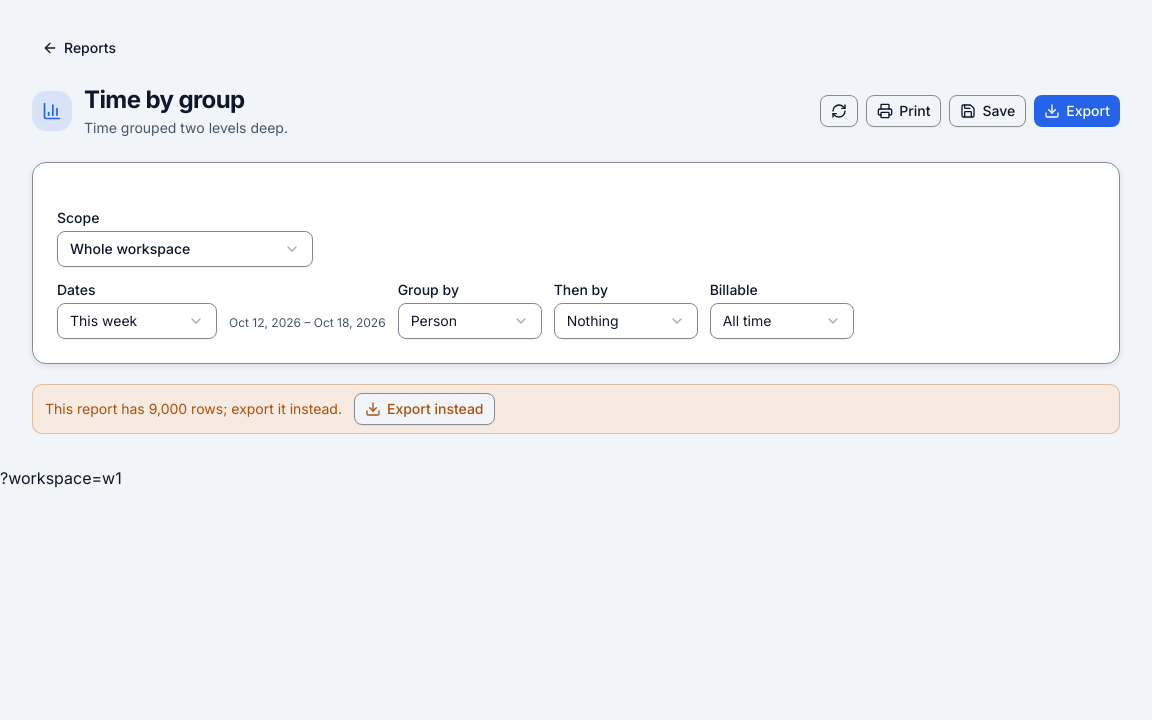
Test: <ReportPage> › points a report too large for the screen at an export
Expected: the text "export it instead" is shown, [45,400,342,417]
Step 1. Click the button "Export instead" → coordinates (424, 409), box [354,393,494,425]
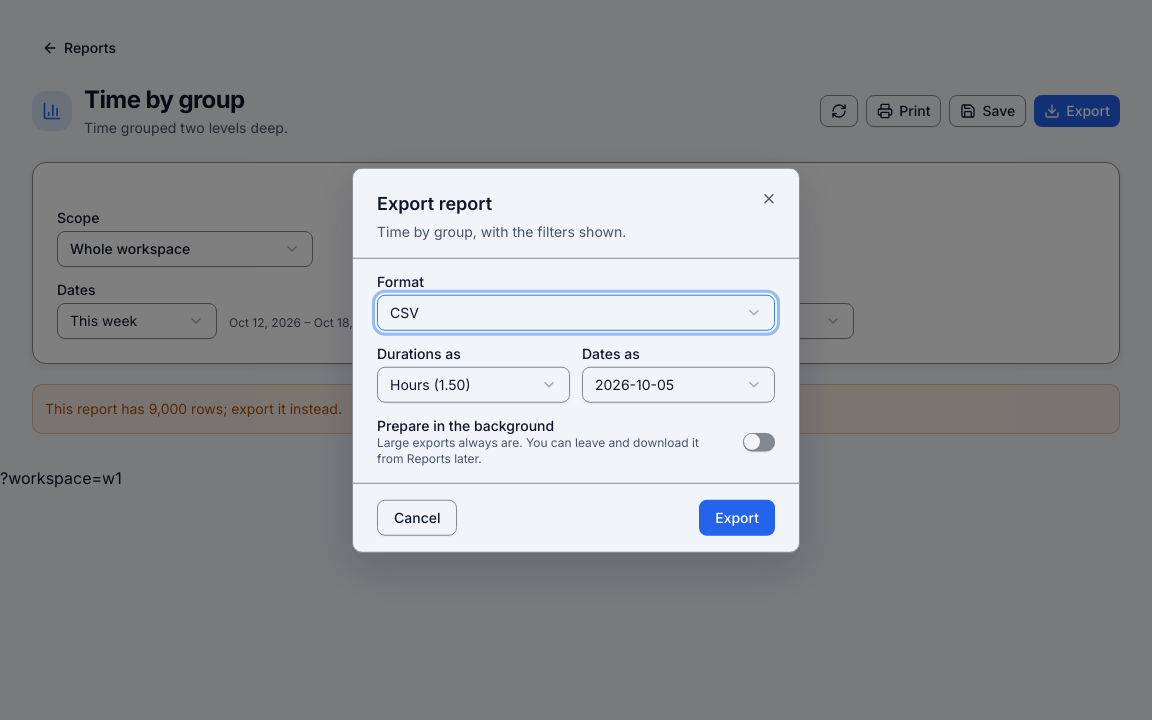
Result: the dialog "Export report" is shown at [352,168,800,552]
